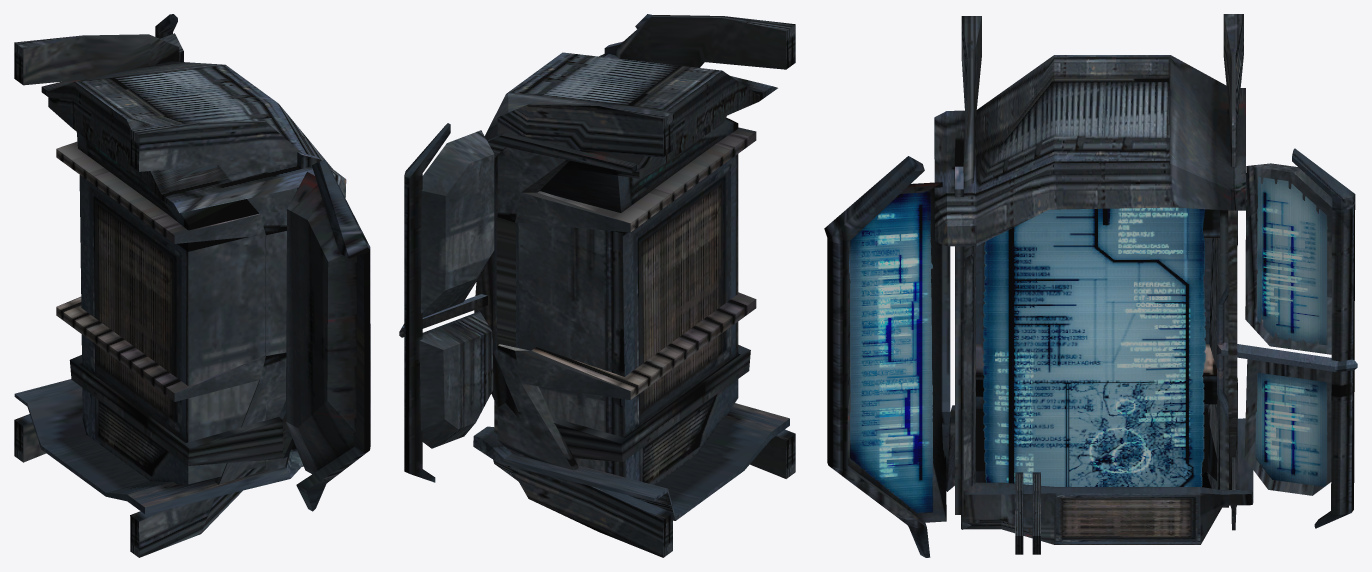
Rendered from monitor01.dae.
3 renders of one model, left to right at view 1: azimuth 30°, elevation 25°; view 2: azimuth 150°, elevation 25°; view 3: azimuth 270°, elevation 25°, orthographic. The views are drawn at different scales.
Visible parts, largest first — view 1: Body.combine_intmonitor003_reference.smd.mesh_0; view 2: Body.combine_intmonitor003_reference.smd.mesh_0; view 3: Body.combine_intmonitor003_reference.smd.mesh_0, Body.combine_intmonitor003_reference.smd.mesh_1.
Boxes of the visible parts, <box> form: Body.combine_intmonitor003_reference.smd.mesh_0: <box>14,14,370,557</box>; Body.combine_intmonitor003_reference.smd.mesh_0: <box>399,14,795,557</box>; Body.combine_intmonitor003_reference.smd.mesh_0: <box>824,14,1357,557</box>; Body.combine_intmonitor003_reference.smd.mesh_1: <box>849,176,1327,513</box>.
Bounding box in the file's own units: 35.23 × 70.07 × 70.61.
2 materials, 2 textured.
